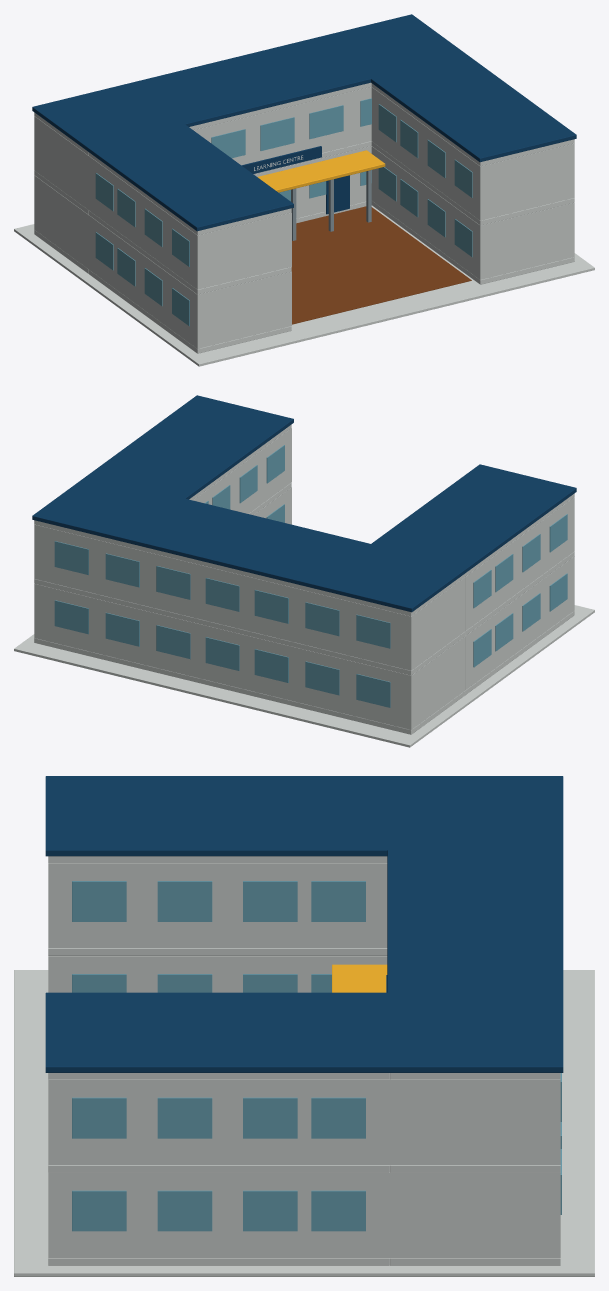
The picture shows the model from 3 angles, top to bottom: view 1: azimuth 30°, elevation 25°; view 2: azimuth 150°, elevation 25°; view 3: azimuth 270°, elevation 25°; orthographic projection. The views are drawn at different scales.
Visible parts, largest first — view 1: WING_Facades.002, WING_Facades, ROOF_Parapet, WING_Facades.001, COURTYARD, ROOF_Parapet.001, ROOF_Parapet.002, SITE_Base, ARCADE_Canopy, WING_Slab.002, WING_Slab.007, WING_Slab.006 (+8 smaller); view 2: WING_Facades.001, ROOF_Parapet, WING_Facades.002, ROOF_Parapet.001, ROOF_Parapet.002, SITE_Base, WING_Facades, WING_Slab.001, WING_Slab, WING_Slab.002, WING_Slab.004, WING_Slab.003 (+1 smaller); view 3: WING_Facades, ROOF_Parapet, WING_Facades.002, WING_Facades.001, ROOF_Parapet.002, ROOF_Parapet.001, SITE_Base, WING_Slab.006, WING_Slab.007, WING_Slab.004, WING_Slab.008, WING_Slab.005 (+4 smaller).
Part boxes in pixels (left/top/right/bottom): WING_Facades.002: left=88, top=156, right=291, bottom=348; WING_Facades: left=371, top=87, right=574, bottom=279; ROOF_Parapet: left=32, top=14, right=466, bottom=150; WING_Facades.001: left=34, top=87, right=371, bottom=268; COURTYARD: left=291, top=206, right=471, bottom=324; ROOF_Parapet.001: left=86, top=123, right=293, bottom=231; ROOF_Parapet.002: left=371, top=54, right=576, bottom=162; SITE_Base: left=14, top=205, right=594, bottom=366; ARCADE_Canopy: left=257, top=150, right=385, bottom=192; WING_Slab.002: left=34, top=82, right=371, bottom=155; WING_Slab.007: left=371, top=141, right=574, bottom=225; WING_Slab.006: left=371, top=201, right=574, bottom=284; WING_Facades.001: left=34, top=524, right=465, bottom=729; ROOF_Parapet: left=32, top=475, right=467, bottom=612; WING_Facades.002: left=466, top=497, right=574, bottom=689; ROOF_Parapet.001: left=370, top=464, right=576, bottom=571; ROOF_Parapet.002: left=88, top=395, right=293, bottom=499; SITE_Base: left=14, top=605, right=594, bottom=747; WING_Facades: left=193, top=428, right=291, bottom=524; WING_Slab.001: left=34, top=579, right=465, bottom=675; WING_Slab: left=34, top=638, right=465, bottom=734; WING_Slab.002: left=34, top=520, right=465, bottom=616; WING_Slab.004: left=465, top=551, right=574, bottom=635; WING_Slab.003: left=465, top=611, right=574, bottom=694; WING_Facades: left=48, top=1079, right=389, bottom=1257; ROOF_Parapet: left=387, top=776, right=563, bottom=1072; WING_Facades.002: left=48, top=863, right=387, bottom=992; WING_Facades.001: left=390, top=1073, right=561, bottom=1257; ROOF_Parapet.002: left=45, top=992, right=391, bottom=1072; ROOF_Parapet.001: left=45, top=776, right=391, bottom=856; SITE_Base: left=14, top=970, right=594, bottom=1276; WING_Slab.006: left=48, top=1258, right=389, bottom=1265; WING_Slab.007: left=48, top=1165, right=389, bottom=1172; WING_Slab.004: left=48, top=948, right=387, bottom=955; WING_Slab.008: left=48, top=1073, right=389, bottom=1079; WING_Slab.005: left=48, top=856, right=387, bottom=862.
Size of the model in its own units: 21 by 6.58 by 17.
